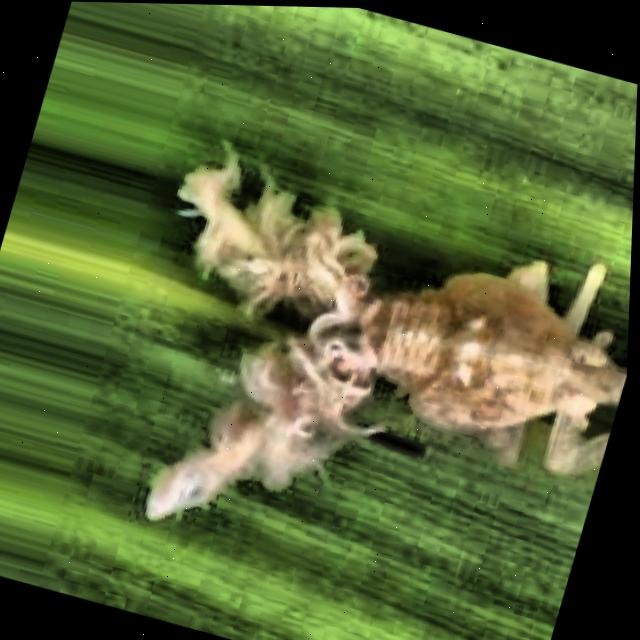Pyrilla-perpusilla: (31, 122, 636, 612)
